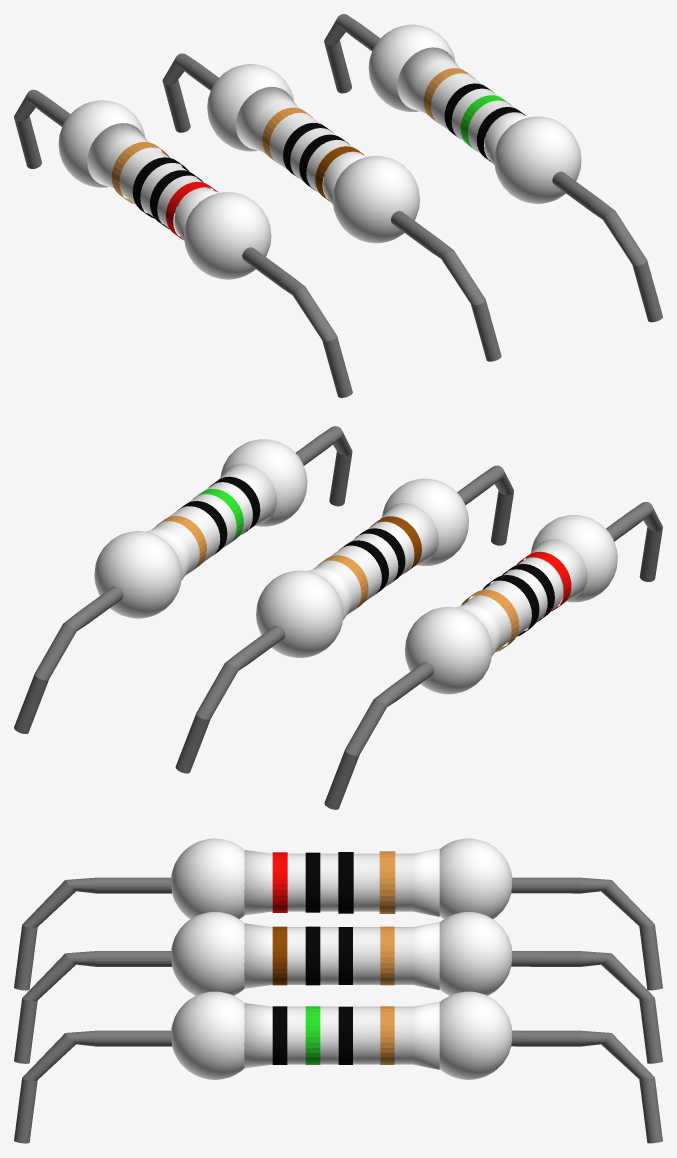
The model's file is ResistorsWithSmoothnes.fbx.
3 views of the same model, one above another, from view 1: azimuth 30°, elevation 25°; view 2: azimuth 150°, elevation 25°; view 3: azimuth 270°, elevation 25° (orthographic).
Parts seen in each view (by area): view 1: Sphere, Sphere.004, Sphere.002, Body2->10ohm, Body3->5ohm, Body-->20 ohm, Sphere.001, Sphere.005, Sphere.003, Cylinder.004, Cylinder.003, Cylinder.001 (+15 smaller); view 2: Sphere.005, Sphere.003, Sphere.001, Body3->5ohm, Body2->10ohm, Body-->20 ohm, Sphere, Sphere.004, Sphere.002, Cylinder.005, Cylinder.008, Cylinder.002 (+15 smaller); view 3: Body3->5ohm, Body2->10ohm, Body-->20 ohm, Sphere.004, Sphere.005, Sphere.002, Sphere.003, Sphere, Sphere.001, Cylinder.001, Cylinder.003, Cylinder.004 (+15 smaller).
Part boxes in pixels (x1,y1,x2,y2): Sphere: [184, 192, 271, 279]; Sphere.004: [494, 116, 581, 203]; Sphere.002: [332, 156, 419, 243]; Body2->10ohm: [236, 86, 367, 204]; Body3->5ohm: [397, 47, 528, 164]; Body-->20 ohm: [87, 123, 218, 240]; Sphere.001: [58, 100, 144, 187]; Sphere.005: [368, 24, 455, 111]; Sphere.003: [207, 64, 293, 151]; Cylinder.004: [391, 211, 501, 361]; Cylinder.003: [552, 171, 662, 322]; Cylinder.001: [242, 247, 352, 397]; Sphere.005: [94, 531, 181, 618]; Sphere.003: [256, 570, 343, 657]; Sphere.001: [405, 606, 492, 694]; Body3->5ohm: [146, 463, 277, 580]; Body2->10ohm: [307, 503, 438, 619]; Body-->20 ohm: [456, 539, 587, 656]; Sphere: [531, 515, 617, 602]; Sphere.004: [220, 439, 307, 526]; Sphere.002: [382, 478, 468, 565]; Cylinder.005: [175, 625, 284, 773]; Cylinder.008: [14, 586, 123, 733]; Cylinder.002: [324, 662, 433, 809]; Body3->5ohm: [244, 1001, 439, 1069]; Body2->10ohm: [244, 922, 439, 990]; Body-->20 ohm: [244, 848, 439, 916]; Sphere.004: [171, 991, 244, 1079]; Sphere.005: [439, 991, 512, 1079]; Sphere.002: [171, 912, 244, 995]; Sphere.003: [439, 911, 512, 995]; Sphere: [171, 838, 244, 919]; Sphere.001: [439, 838, 512, 918]; Cylinder.001: [14, 877, 171, 990]; Cylinder.003: [14, 1030, 171, 1143]; Cylinder.004: [14, 951, 171, 1063].
Bounding box in the file's own units: 13.15 × 4.4 × 18.94.
